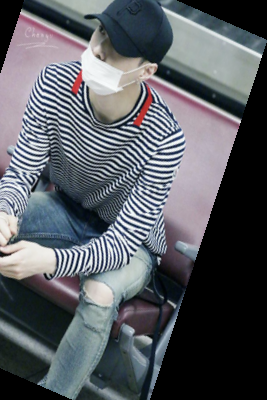mask_weared_incorrect: (72, 1, 180, 109)
